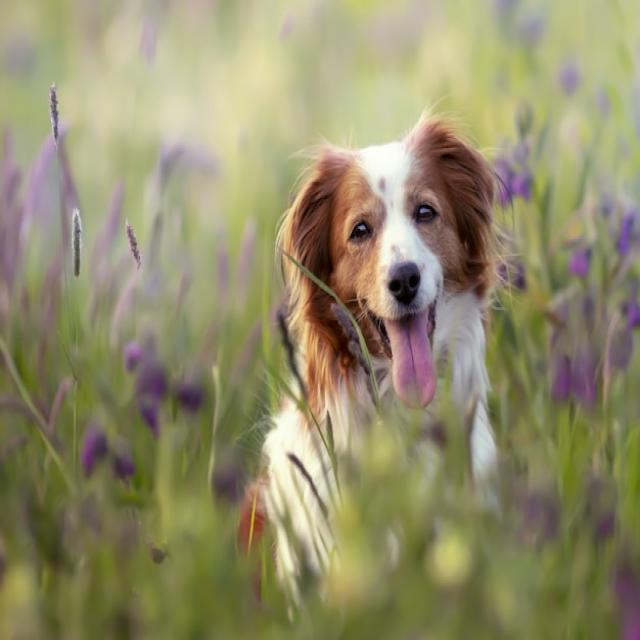Dog: (263, 110, 502, 612)
